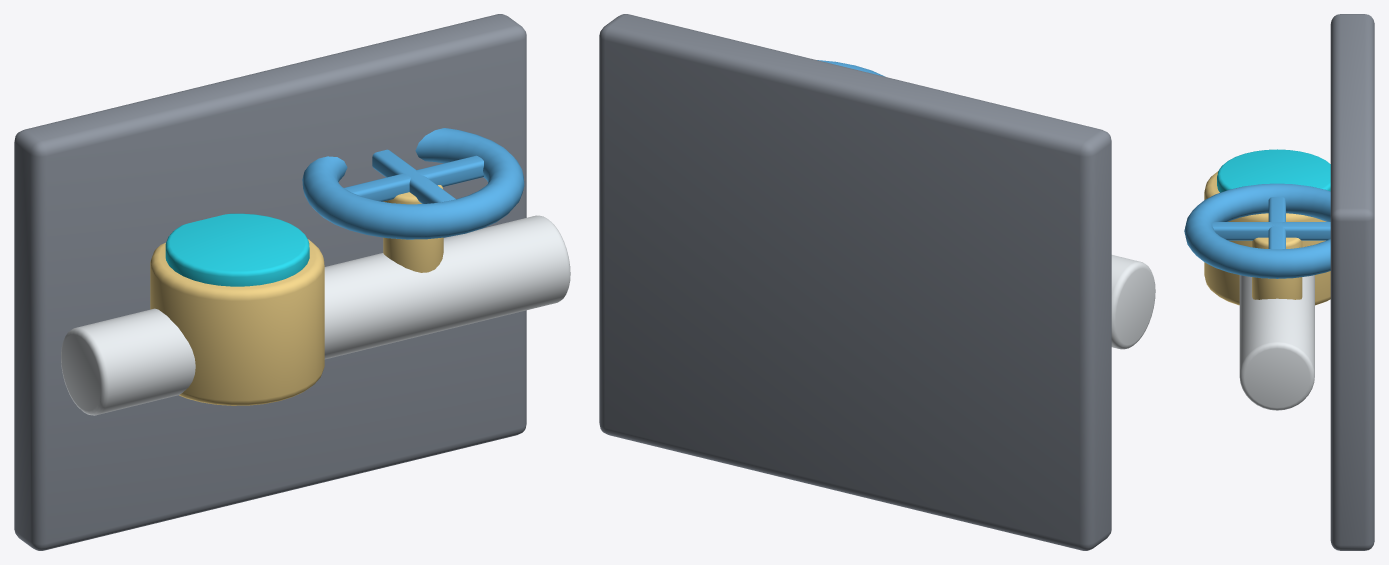
Rendered from SM_WaterValve.fbx.
The picture shows the model from 3 angles, left to right: view 1: azimuth 30°, elevation 25°; view 2: azimuth 150°, elevation 25°; view 3: azimuth 270°, elevation 25°; orthographic projection. The views are drawn at different scales.
Visible parts, largest first — view 1: SM_WaterValve; view 2: SM_WaterValve; view 3: SM_WaterValve.
Boxes of the visible parts, x1,y1,x2,y2 form: SM_WaterValve: [14, 14, 570, 550]; SM_WaterValve: [599, 14, 1155, 550]; SM_WaterValve: [1184, 14, 1374, 550].
Bounding box in the file's own units: 47.5 × 37.5 × 18.94.
